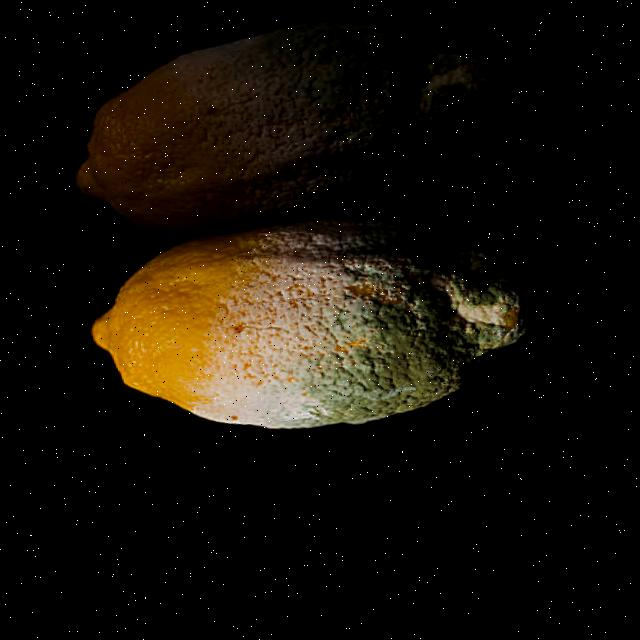Rotten: (75, 203, 534, 450)
